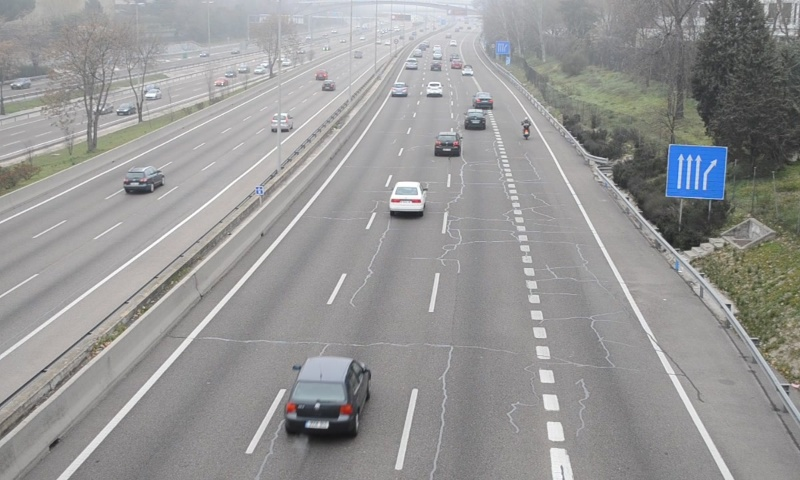car: (286, 356, 371, 434), (389, 180, 426, 212), (434, 131, 462, 156), (464, 108, 486, 130), (473, 92, 495, 108), (426, 80, 444, 96), (390, 82, 408, 96)
motorcycle: (521, 117, 532, 140)
